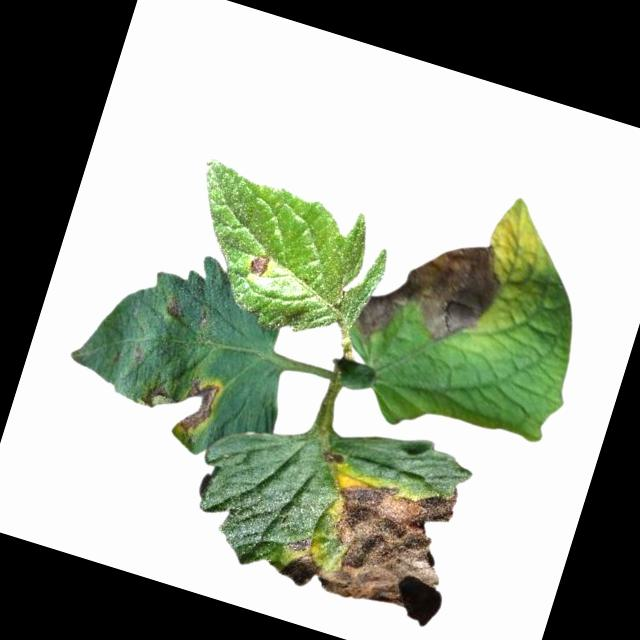Early_blight: (273, 444, 474, 631), (352, 215, 511, 377), (135, 360, 225, 440), (244, 250, 275, 281), (161, 300, 186, 323)
